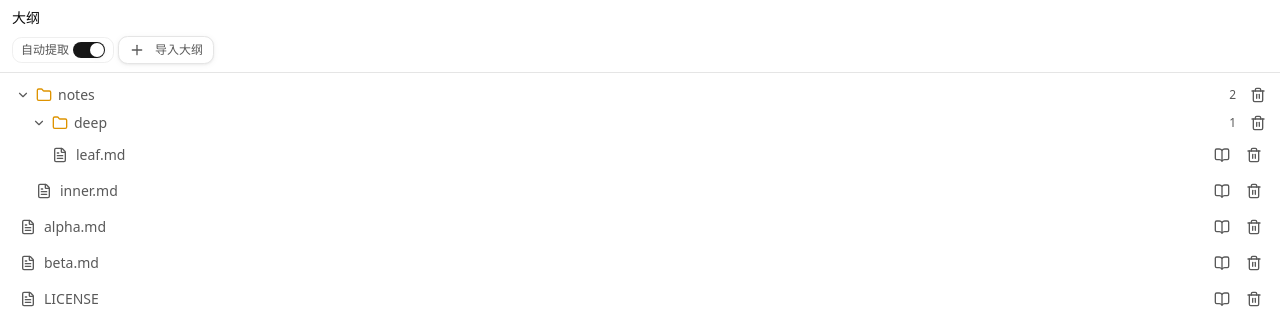
Scenario: SourceSidebar — 摄取队列 › 摄取成功：注册任务，轮询完成后标记已提取（Check 图标）
The image size is (1280, 324).
Check: the text "alpha.md" is shown, box top-left (8, 209), bottom-right (1272, 245)
Click the 3rd button titled "提取初始记忆": (1222, 227) top-left (1208, 213), bottom-right (1236, 241)
Wait 1000 ms
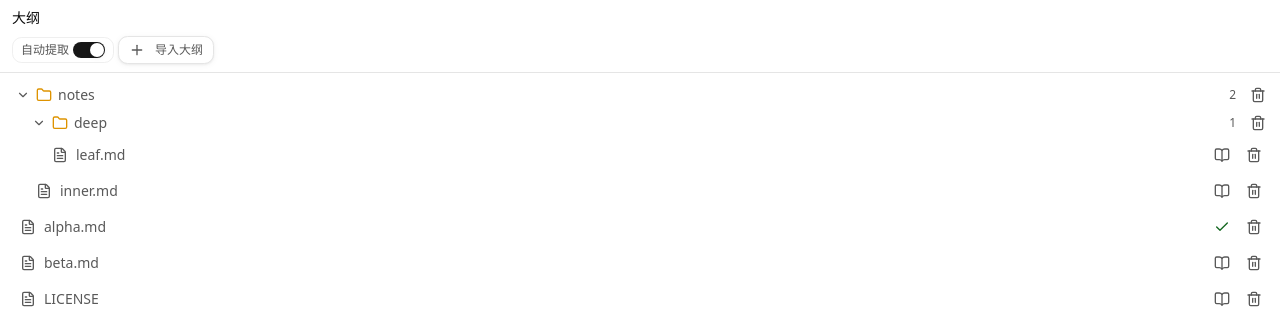
Check: the icon with class "lucide-check" is shown, box top-left (1214, 219), bottom-right (1230, 235)
